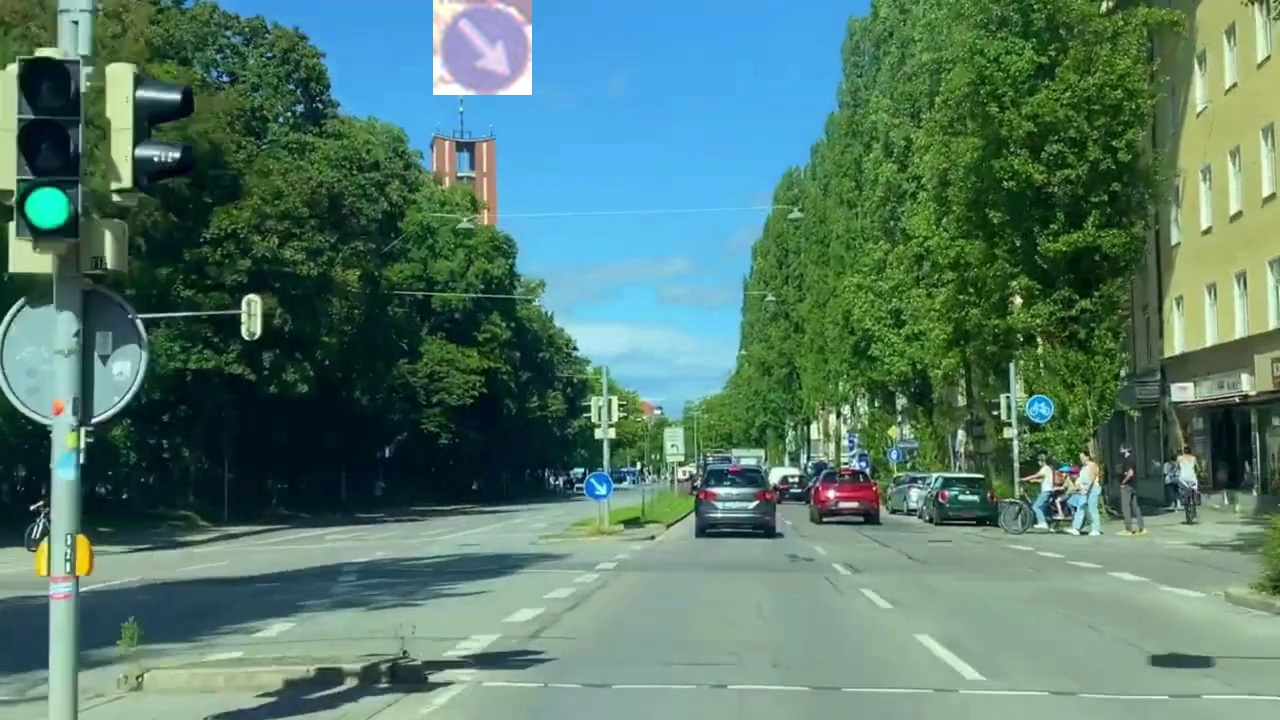Keep right: (433, 0, 532, 95)
